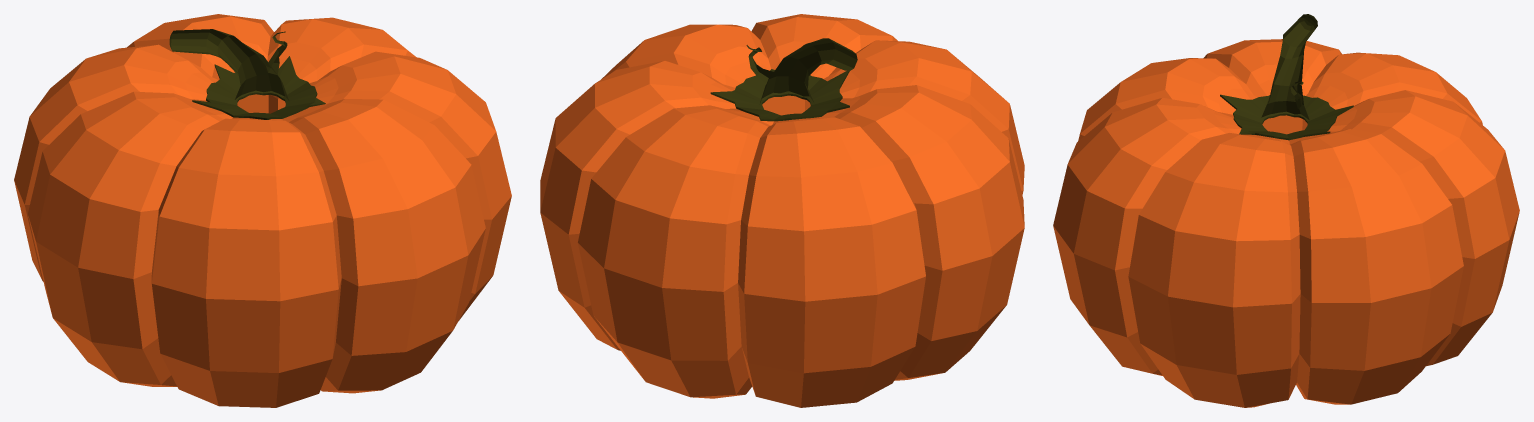
Rendered from pumpkin.fbx.
The picture shows the model from 3 angles, left to right: view 1: azimuth 30°, elevation 25°; view 2: azimuth 150°, elevation 25°; view 3: azimuth 270°, elevation 25°; orthographic projection. The views are drawn at different scales.
Parts seen in each view (by area): view 1: Pumpkin; view 2: Pumpkin; view 3: Pumpkin.
Boxes of the visible parts, x1,y1,x2,y2 form: Pumpkin: [14, 14, 511, 407]; Pumpkin: [540, 14, 1024, 407]; Pumpkin: [1053, 14, 1519, 407].
Bounding box in the file's own units: 61.16 × 44.1 × 61.67.
Materials: 1 (1 with a texture image).
